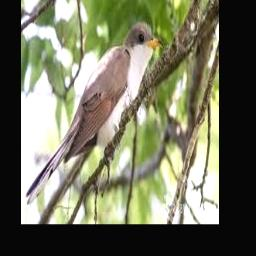Cuckoo: (26, 24, 165, 205)
